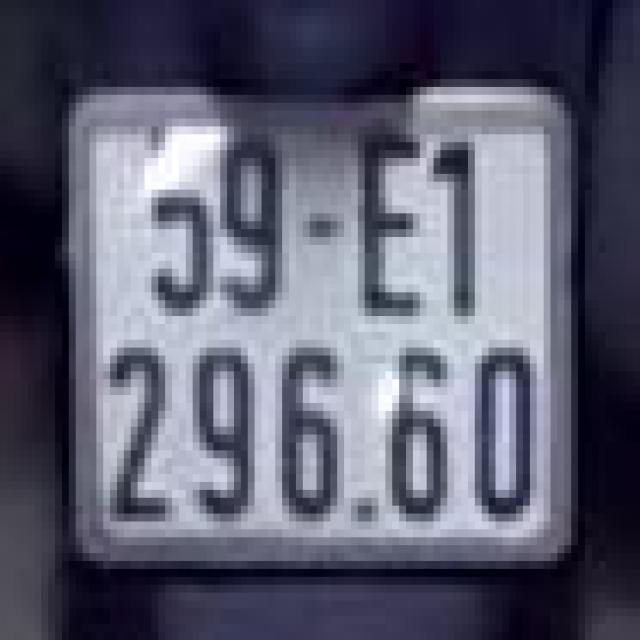0: (468, 332, 544, 537)
1: (430, 138, 492, 336)
2: (96, 324, 179, 537)
5: (131, 103, 213, 316)
6: (372, 336, 461, 541), (275, 340, 351, 529)
9: (220, 99, 282, 336), (189, 332, 258, 529)
E: (344, 134, 427, 324)
